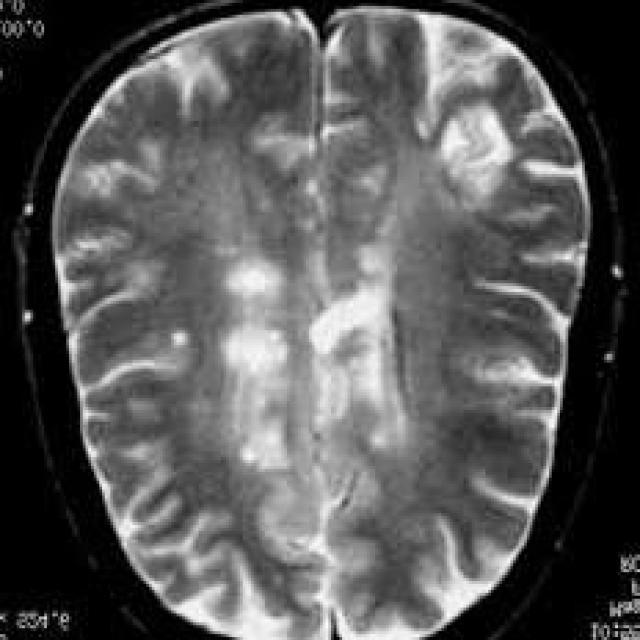notumor: (19, 0, 618, 637)
